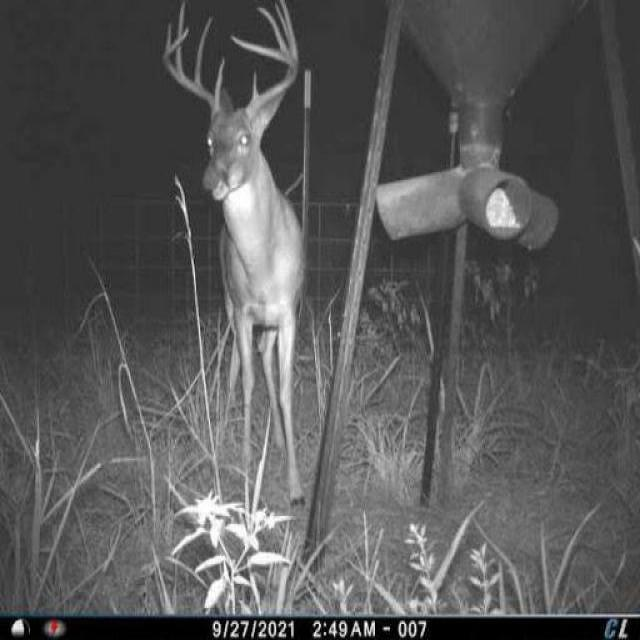deer: (155, 3, 313, 510)
